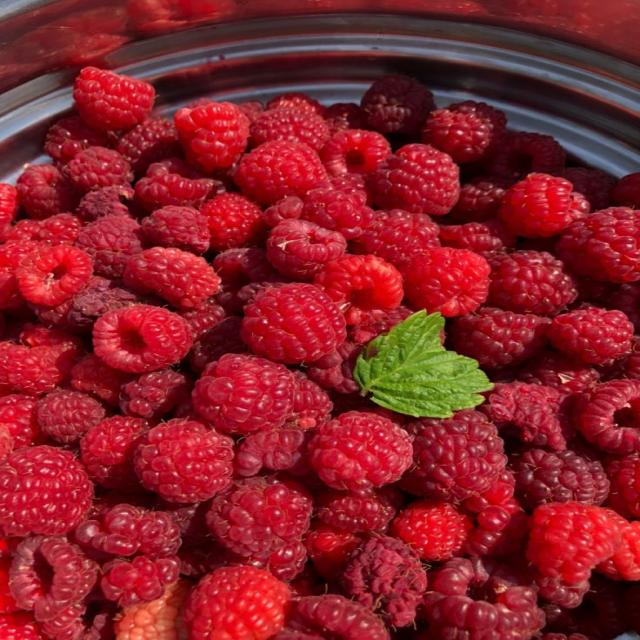raspberry: (400, 410, 506, 501), (424, 559, 544, 639), (241, 284, 346, 364), (0, 445, 93, 535), (207, 477, 313, 555), (193, 354, 296, 434), (134, 419, 233, 502), (309, 412, 412, 491), (527, 502, 620, 585), (340, 537, 426, 626), (184, 567, 290, 639), (11, 536, 98, 621), (94, 305, 193, 373), (369, 144, 459, 215), (481, 382, 574, 450), (557, 207, 639, 283), (314, 255, 403, 324), (448, 308, 548, 369), (402, 248, 490, 317), (510, 449, 609, 510), (123, 247, 219, 309), (499, 173, 590, 238), (487, 251, 577, 315), (235, 141, 326, 204), (542, 576, 633, 639), (74, 504, 180, 558), (421, 101, 506, 163), (174, 102, 249, 172), (351, 209, 439, 268), (275, 594, 390, 639), (74, 67, 154, 130), (391, 500, 473, 561), (80, 416, 148, 489), (547, 307, 633, 364), (573, 380, 639, 454), (267, 220, 346, 280), (16, 245, 93, 305), (135, 158, 221, 211), (465, 484, 528, 556), (114, 580, 190, 639), (213, 248, 280, 314), (361, 75, 433, 134), (76, 216, 143, 278), (315, 487, 402, 533), (100, 556, 179, 606), (67, 277, 141, 330), (300, 187, 373, 240), (200, 193, 266, 251), (36, 390, 106, 443), (488, 132, 566, 179), (0, 343, 70, 395), (155, 499, 221, 554), (234, 428, 309, 476), (116, 118, 180, 174), (20, 325, 85, 380), (518, 351, 599, 394), (120, 369, 191, 418), (250, 108, 329, 151), (17, 164, 78, 219), (189, 316, 248, 372), (306, 520, 361, 580), (226, 541, 307, 581), (142, 206, 210, 253), (320, 130, 391, 175), (44, 117, 113, 163), (63, 147, 133, 192), (71, 354, 130, 405), (307, 340, 362, 394), (449, 177, 513, 223), (0, 241, 41, 309), (286, 371, 333, 429), (440, 220, 516, 254), (596, 520, 639, 580), (349, 306, 413, 345), (0, 394, 44, 448), (560, 168, 615, 211), (606, 453, 639, 518), (75, 186, 134, 222), (534, 570, 589, 608), (22, 213, 83, 245), (180, 299, 226, 341), (606, 282, 639, 332), (0, 538, 20, 615), (324, 173, 372, 205), (575, 276, 621, 307), (323, 103, 365, 135), (267, 92, 325, 115), (263, 196, 303, 227), (0, 612, 44, 639), (0, 183, 18, 242), (612, 173, 639, 208), (6, 218, 42, 240), (623, 583, 639, 632), (238, 101, 265, 123), (0, 423, 13, 460)
